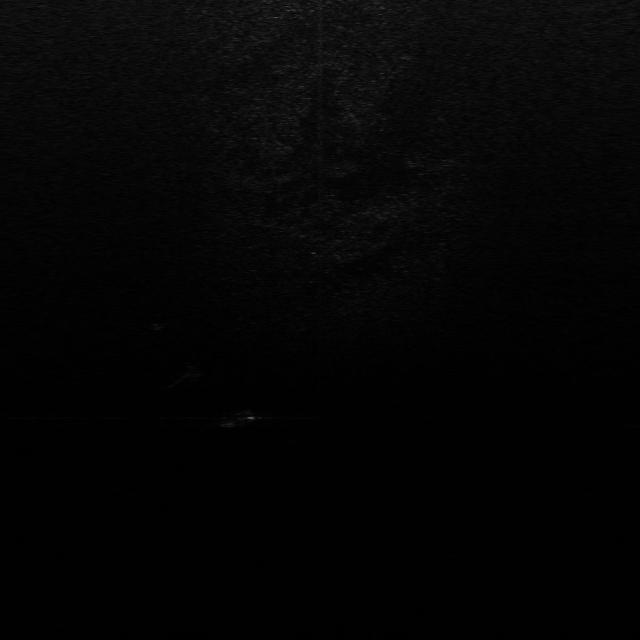ball: (179, 358, 212, 380)
circle cage: (148, 314, 174, 332)
tyre: (218, 408, 260, 426)
